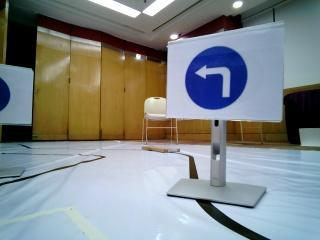left: (176, 37, 279, 118)
